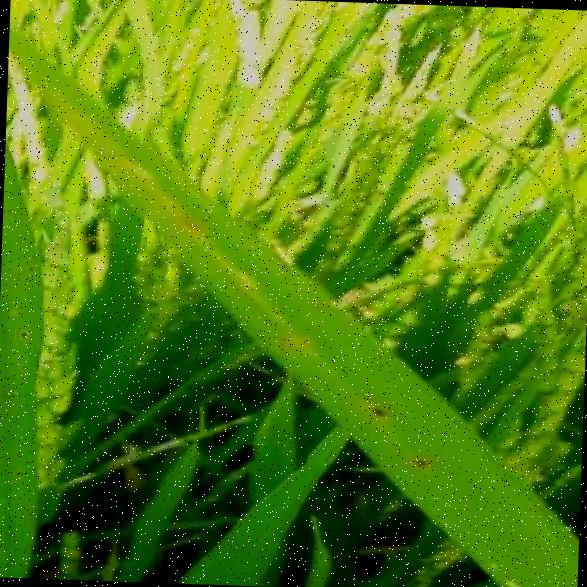Brown_Spot: (402, 448, 435, 473), (362, 396, 390, 422), (10, 323, 32, 339), (10, 270, 28, 286), (3, 199, 17, 215), (20, 261, 38, 273), (17, 358, 31, 372)
